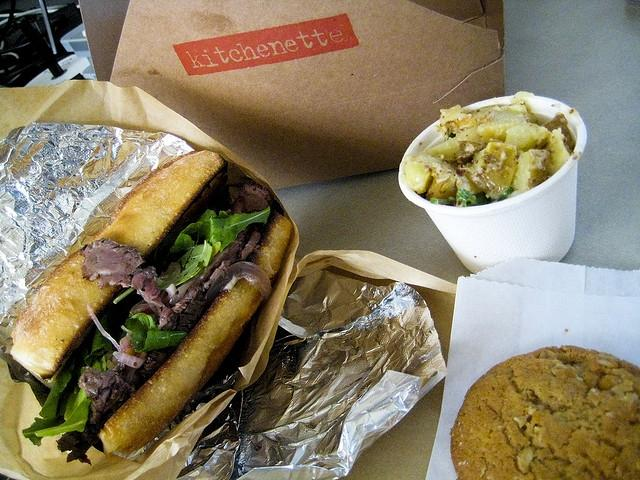lettuce: (180, 206, 271, 253), (36, 387, 90, 437), (126, 313, 188, 353), (173, 240, 213, 286), (90, 329, 112, 354)
